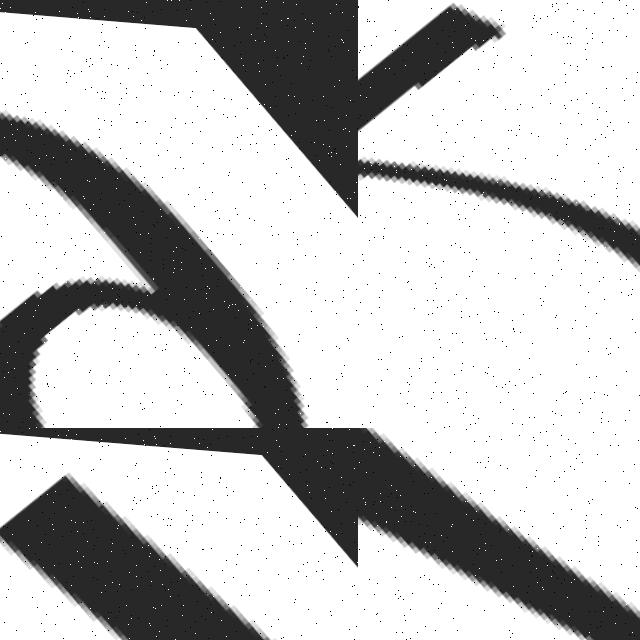2: (358, 0, 640, 428)
7: (358, 428, 640, 640)
9: (0, 0, 358, 428)
H: (0, 428, 358, 640)
